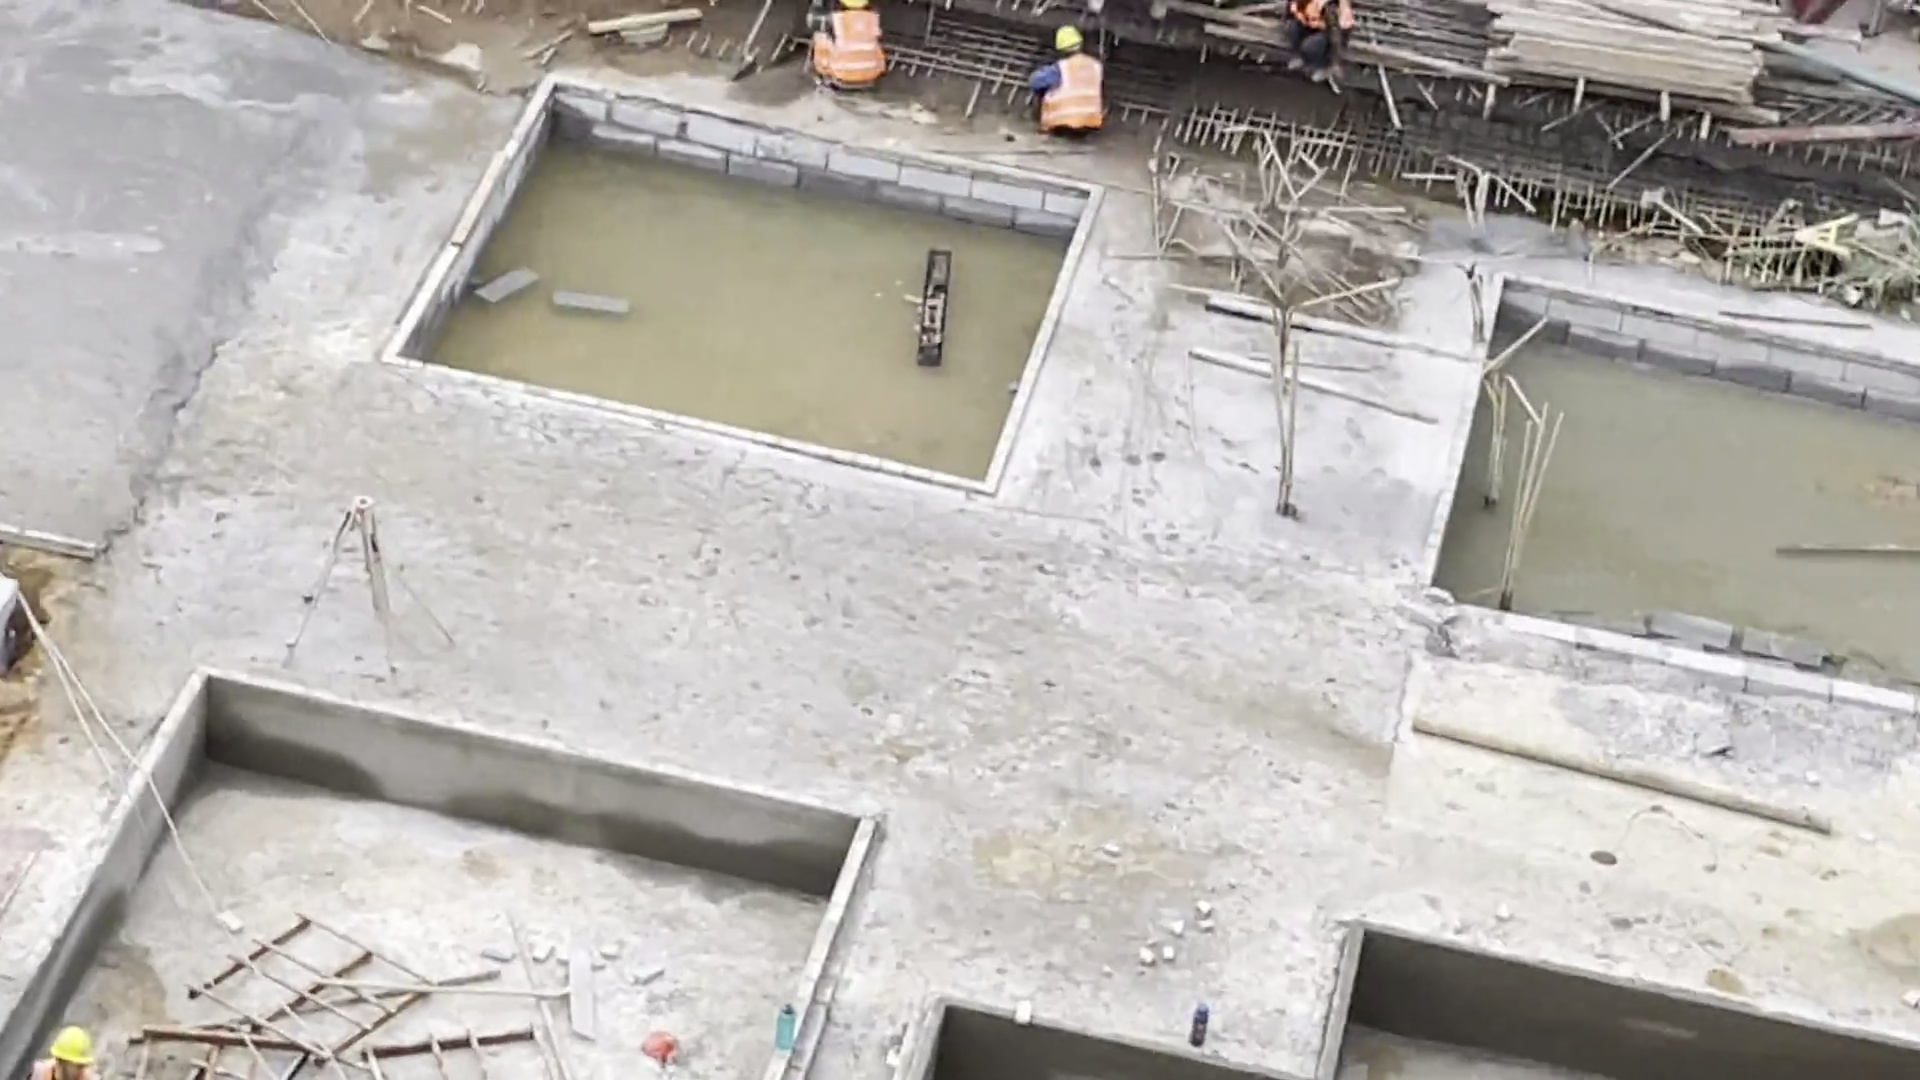helmet: (1055, 26, 1085, 52), (838, 1, 870, 7)
person: (1024, 21, 1109, 143), (800, 1, 888, 101), (1284, 1, 1357, 99)
vest: (1040, 48, 1111, 143), (826, 10, 891, 94)
